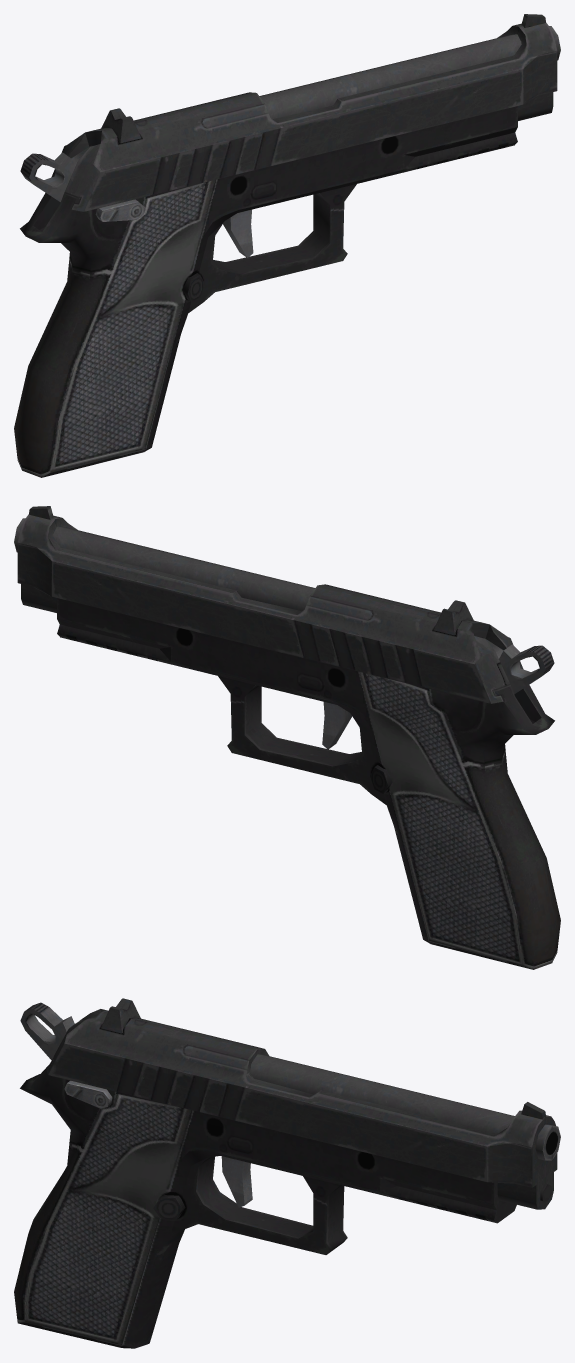
The model's file is pistol.glb.
The picture shows the model from 3 angles, top to bottom: view 1: azimuth 30°, elevation 25°; view 2: azimuth 150°, elevation 25°; view 3: azimuth 330°, elevation 25°; orthographic projection.
Visible parts, largest first — view 1: Gun_Root.002; view 2: Gun_Root.002; view 3: Gun_Root.002.
Part boxes in pixels (x1,y1,x2,y2): Gun_Root.002: [14, 14, 560, 477]; Gun_Root.002: [14, 506, 560, 969]; Gun_Root.002: [14, 998, 560, 1348].
Size of the model in its own units: 0.5542 by 0.3308 by 0.0647.
1 material, 1 textured.
